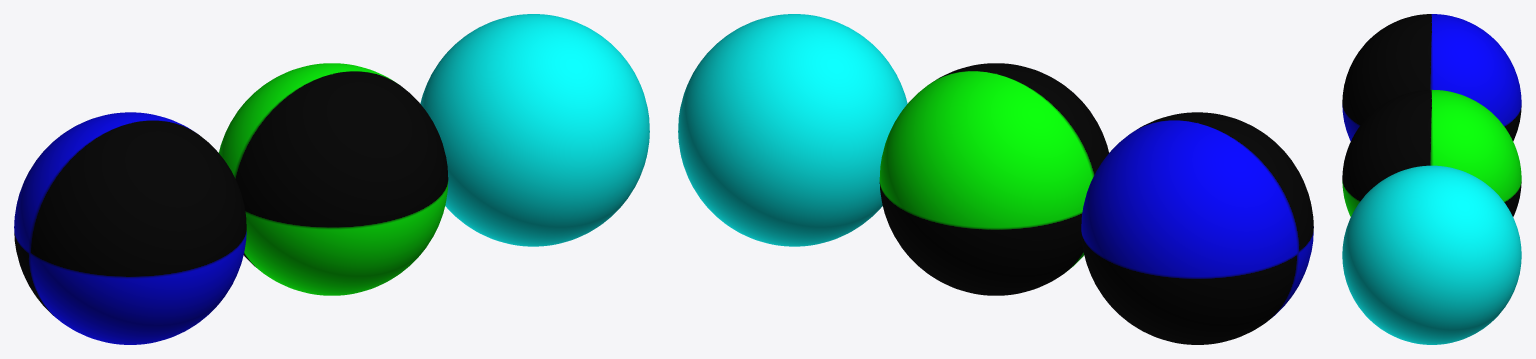
File: threeMaterials.glb
The picture shows the model from 3 angles, left to right: view 1: azimuth 30°, elevation 25°; view 2: azimuth 150°, elevation 25°; view 3: azimuth 270°, elevation 25°; orthographic projection. The views are drawn at different scales.
Visible parts, largest first — view 1: sphere2, sphere, sphere3; view 2: sphere2, sphere, sphere3; view 3: sphere3, sphere2, sphere.
Part boxes in pixels (left/top/right/bottom): sphere2: left=14, top=112, right=246, bottom=344; sphere: left=219, top=63, right=448, bottom=295; sphere3: left=420, top=14, right=649, bottom=246; sphere2: left=1081, top=112, right=1313, bottom=344; sphere: left=879, top=63, right=1108, bottom=295; sphere3: left=678, top=14, right=907, bottom=246; sphere3: left=1342, top=165, right=1521, bottom=344; sphere2: left=1342, top=14, right=1521, bottom=141; sphere: left=1342, top=89, right=1521, bottom=216.
Bounding box in the file's own units: 6 × 2 × 2.
3 materials, 2 textured.
